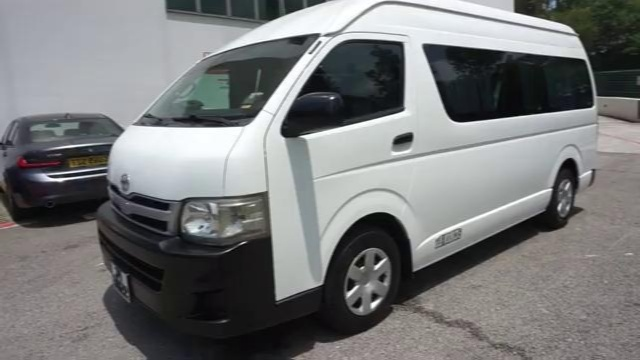van: (95, 0, 598, 336)
